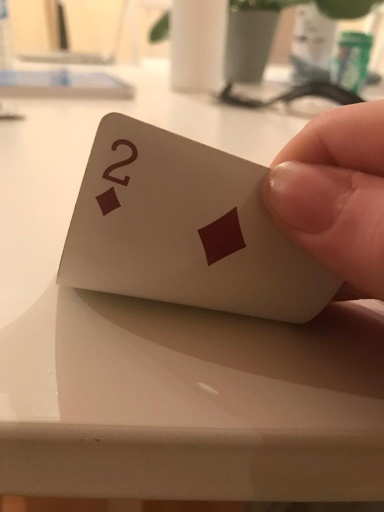D2: (94, 137, 141, 223)
